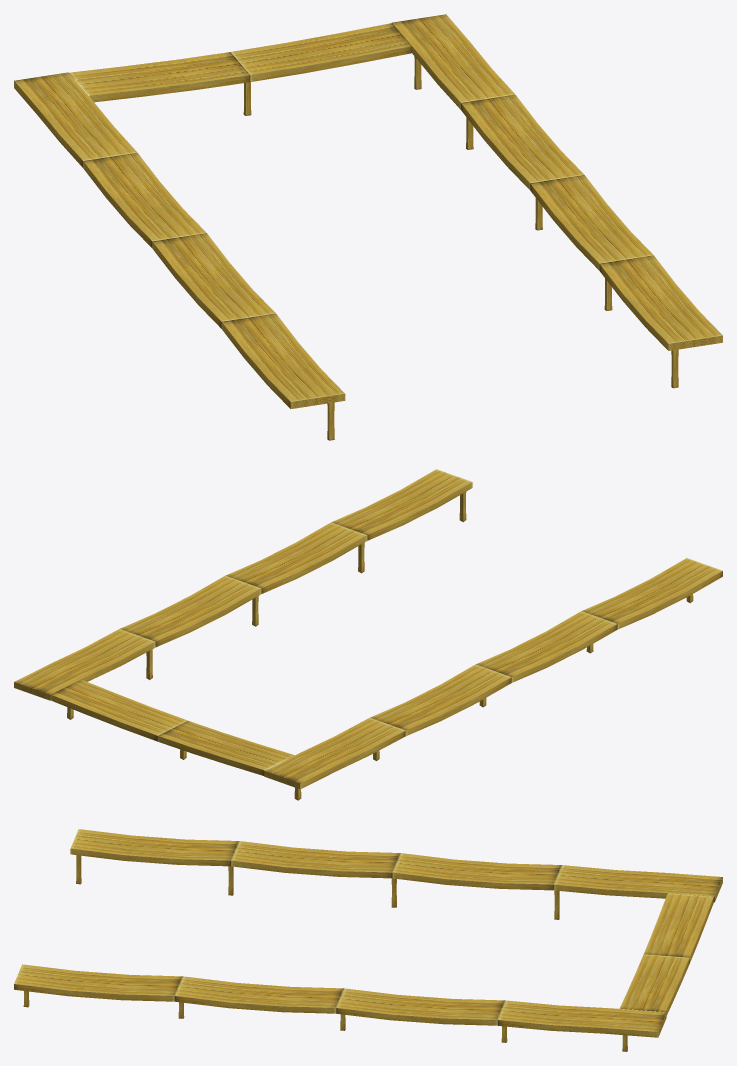
The model's file is HTOWN01_CHICKENTABLE.fbx.
3 views of the same model, one above another, from view 1: azimuth 30°, elevation 25°; view 2: azimuth 150°, elevation 25°; view 3: azimuth 270°, elevation 25° (orthographic). The views are drawn at different scales.
Visible parts, largest first — view 1: HTOWN01_CHICKENTABLE; view 2: HTOWN01_CHICKENTABLE; view 3: HTOWN01_CHICKENTABLE.
Part boxes in pixels (x1=…): HTOWN01_CHICKENTABLE: x1=14, y1=14, x2=722, y2=440; HTOWN01_CHICKENTABLE: x1=14, y1=469, x2=722, y2=800; HTOWN01_CHICKENTABLE: x1=14, y1=829, x2=722, y2=1051.
Size of the model in its own units: 75477 by 6754 by 111469.
1 material, 1 textured.
